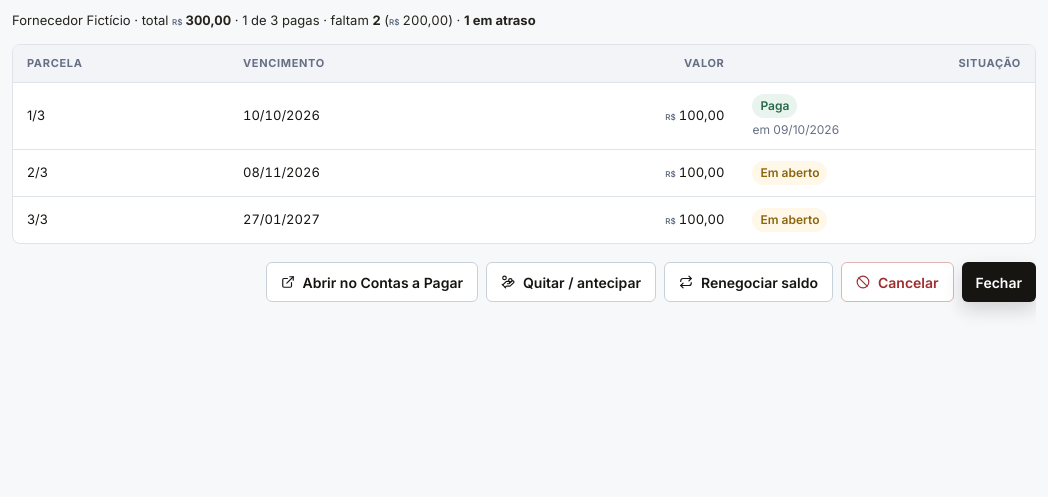
Test: DetalheParcelamento › desconto e juros ao mesmo tempo é recusado
The width and height of the screenshot is (1048, 497).
Click the button "Quitar / antecipar" at (571, 282), box [486,262,656,302]
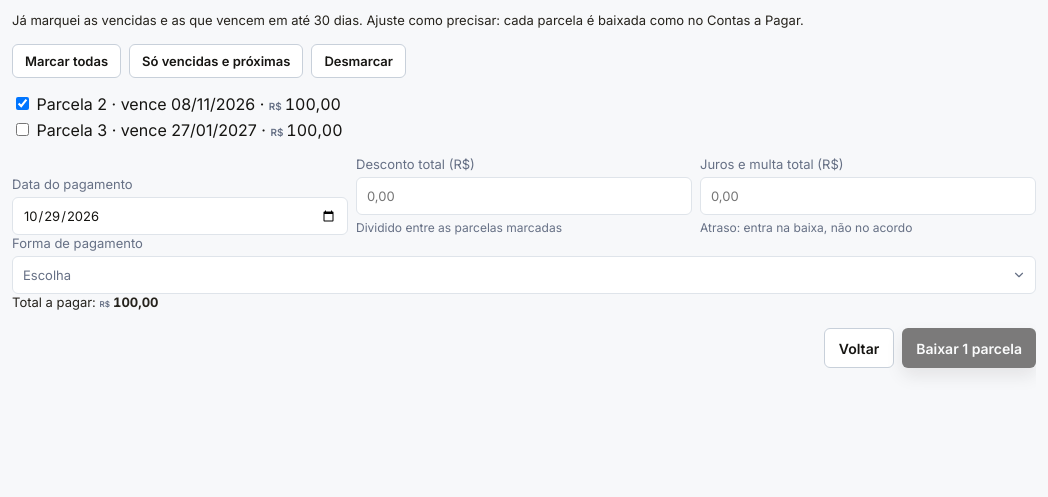
Click the button "Marcar todas" at (66, 61), box [12,44,121,78]
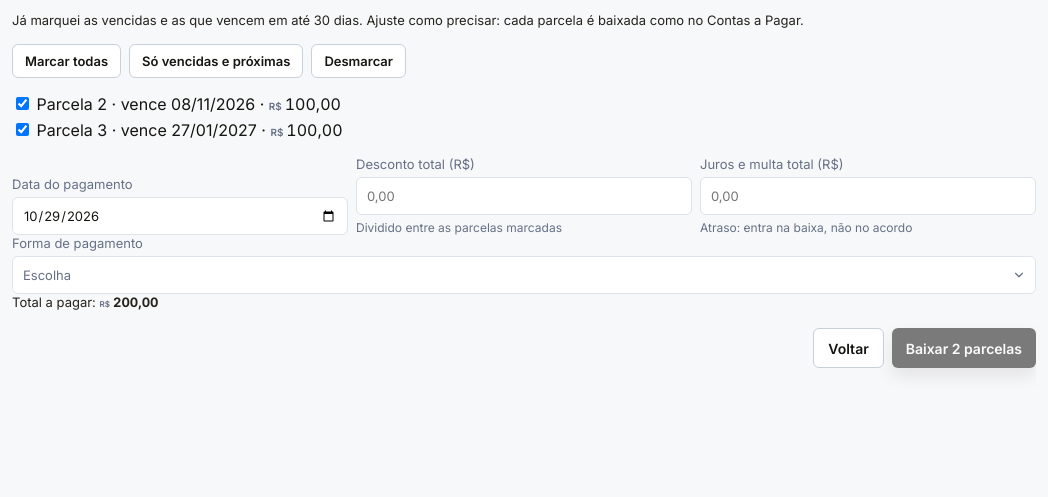
Select "BOLETO" in the dropdown labelled "Forma de pagamento" at (524, 275), box [12,256,1036,294]
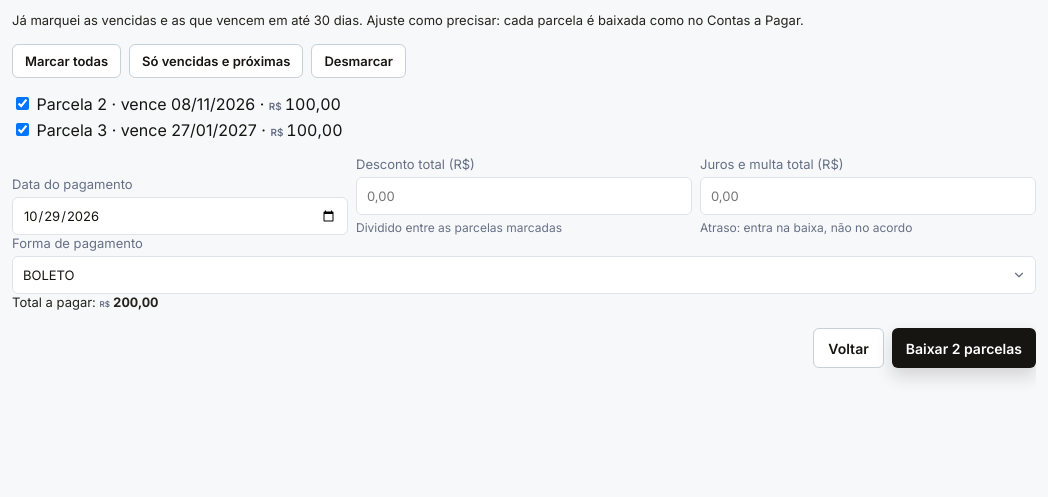
Type "5,00" into the field labelled "Desconto total (R$) Dividido entre as parcelas marcadas" at (524, 196), box [356,177,692,215]
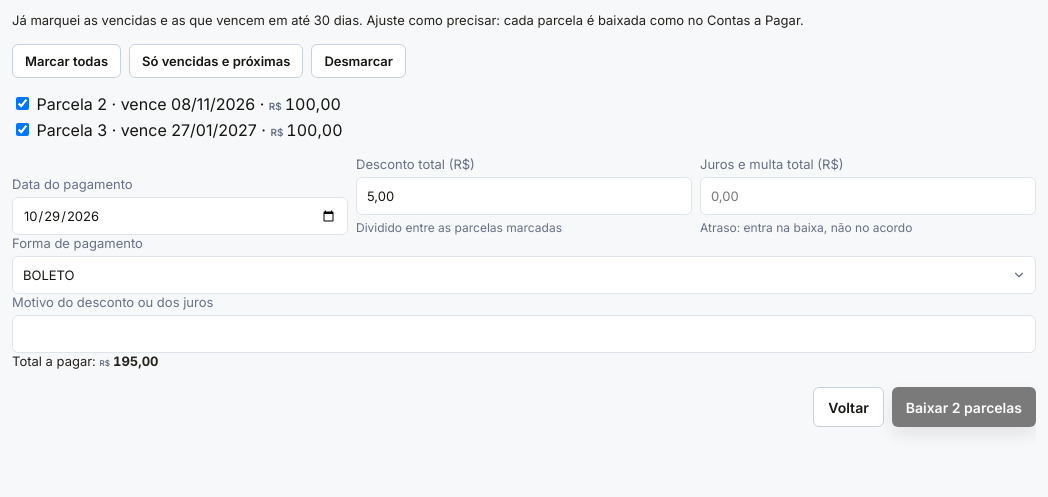
Type "5,00" into the field labelled "Juros e multa total" at (868, 196), box [700,177,1036,215]
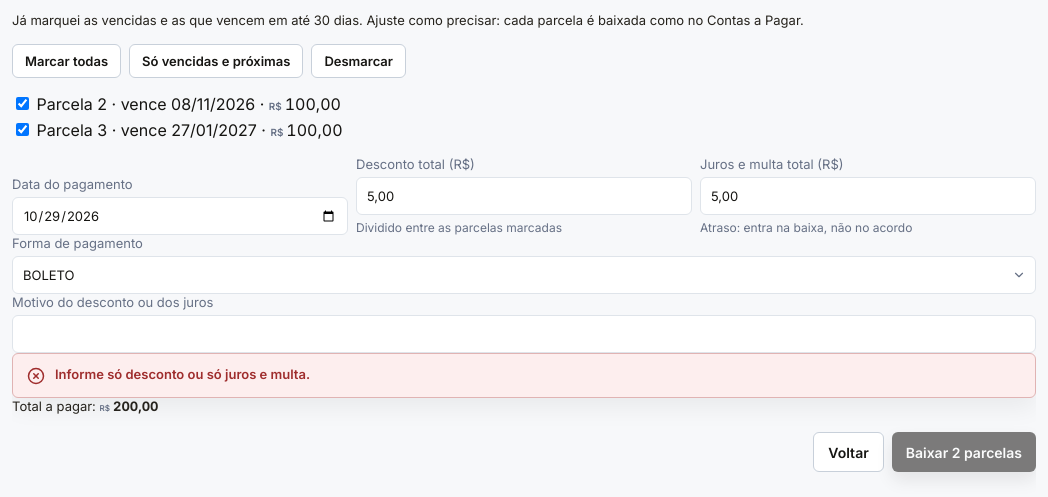
expect the button "Baixar 2 parcelas" is disabled: met, box [892,432,1036,472]
expect the text "Informe só desconto ou só juros e multa." is shown: met, box [55,366,310,384]
